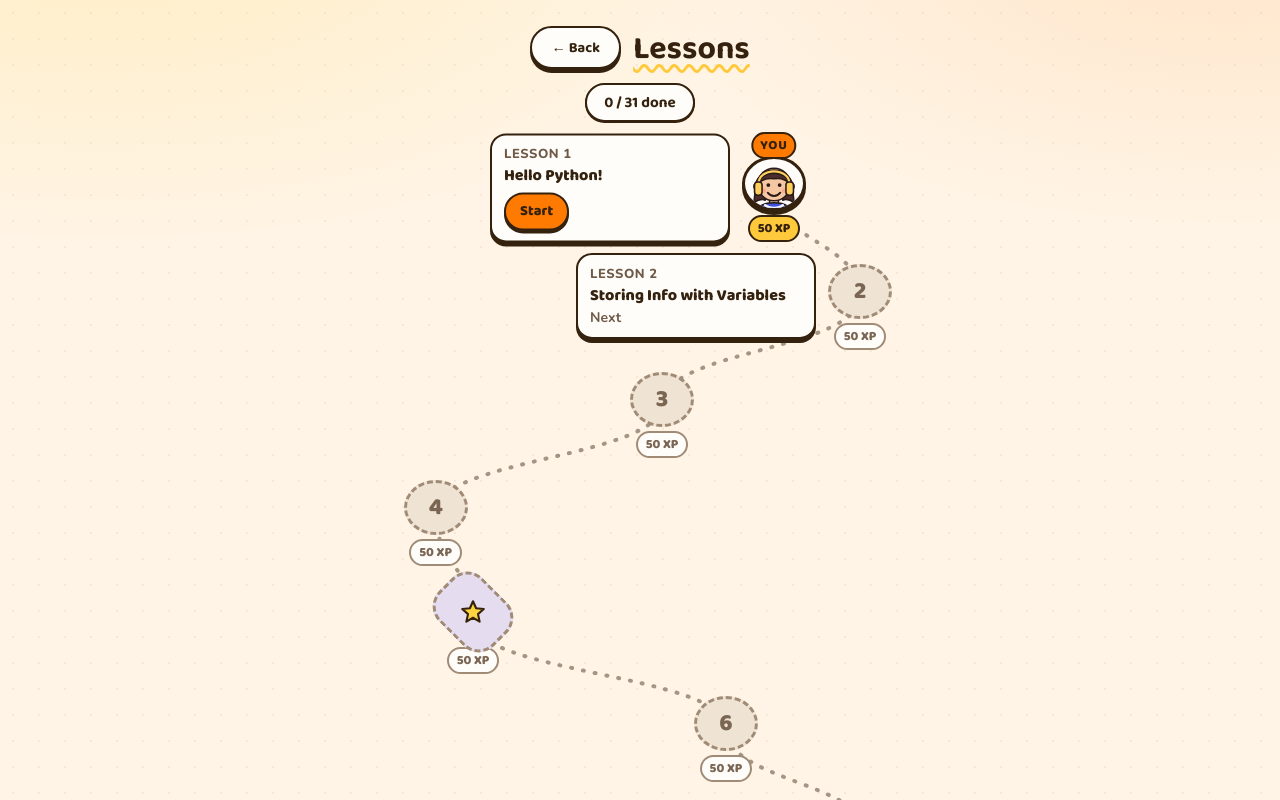
Test: a stop ahead of the child asks, and never refuses (message 74)
The image size is (1280, 800).
Click the link with class "lm-card--ahead" that starts with "Lesson 2": coordinates (860, 296) [828,242,892,350]
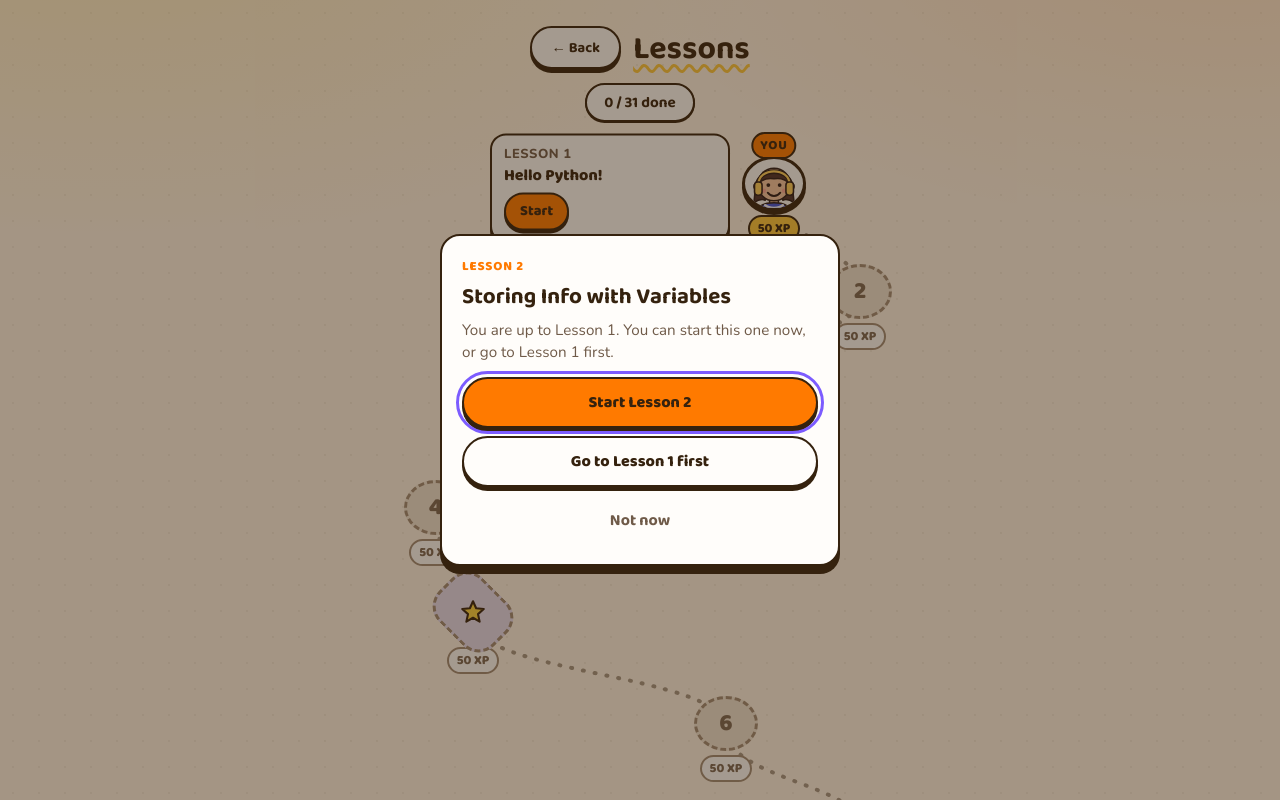
Expected: the dialog shows "You are up to Lesson 1", [462,320,806,362]
Expected: the button "Go to Lesson 1 first" is shown, [462,436,818,487]
